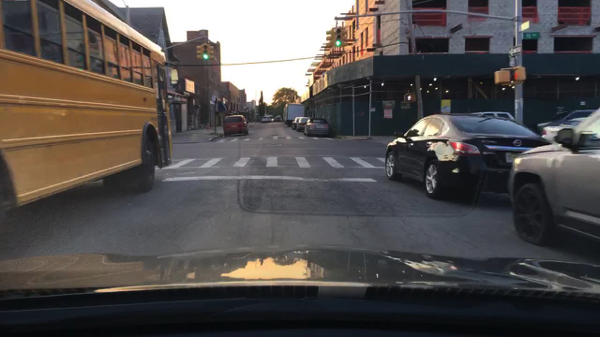bus: (0, 1, 181, 233)
car: (506, 95, 599, 255), (385, 111, 547, 199), (536, 110, 598, 145), (542, 117, 587, 146), (223, 115, 249, 136), (304, 118, 329, 138), (297, 117, 314, 133), (292, 116, 303, 131), (260, 116, 272, 123), (275, 117, 282, 121)
traffic light: (495, 66, 511, 86), (512, 66, 528, 82), (402, 92, 417, 104), (333, 28, 341, 47), (326, 29, 333, 47), (202, 43, 209, 60), (209, 44, 216, 61), (194, 44, 201, 59), (343, 27, 348, 47)
traffic sign: (506, 44, 524, 56), (522, 31, 540, 40), (518, 20, 530, 32)
truck: (283, 103, 305, 127)
